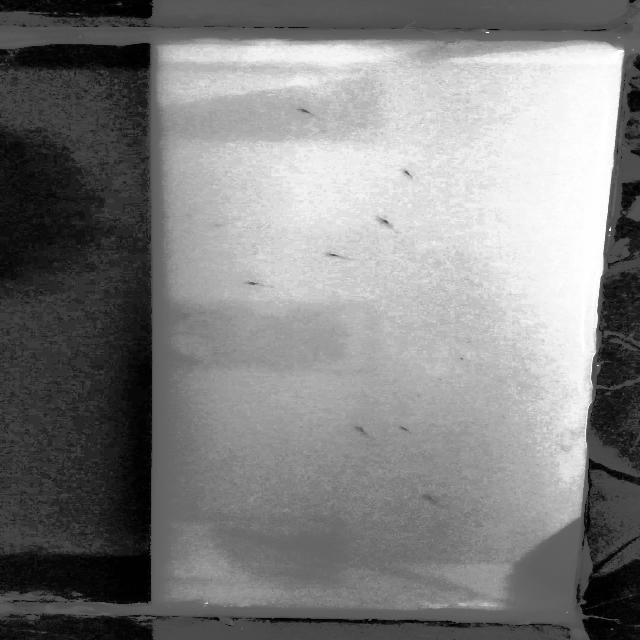shrimp: (420, 492, 446, 506), (300, 106, 322, 120), (327, 252, 352, 263), (354, 427, 376, 439), (242, 280, 272, 288), (378, 218, 395, 232), (392, 424, 411, 436), (402, 170, 418, 182)
